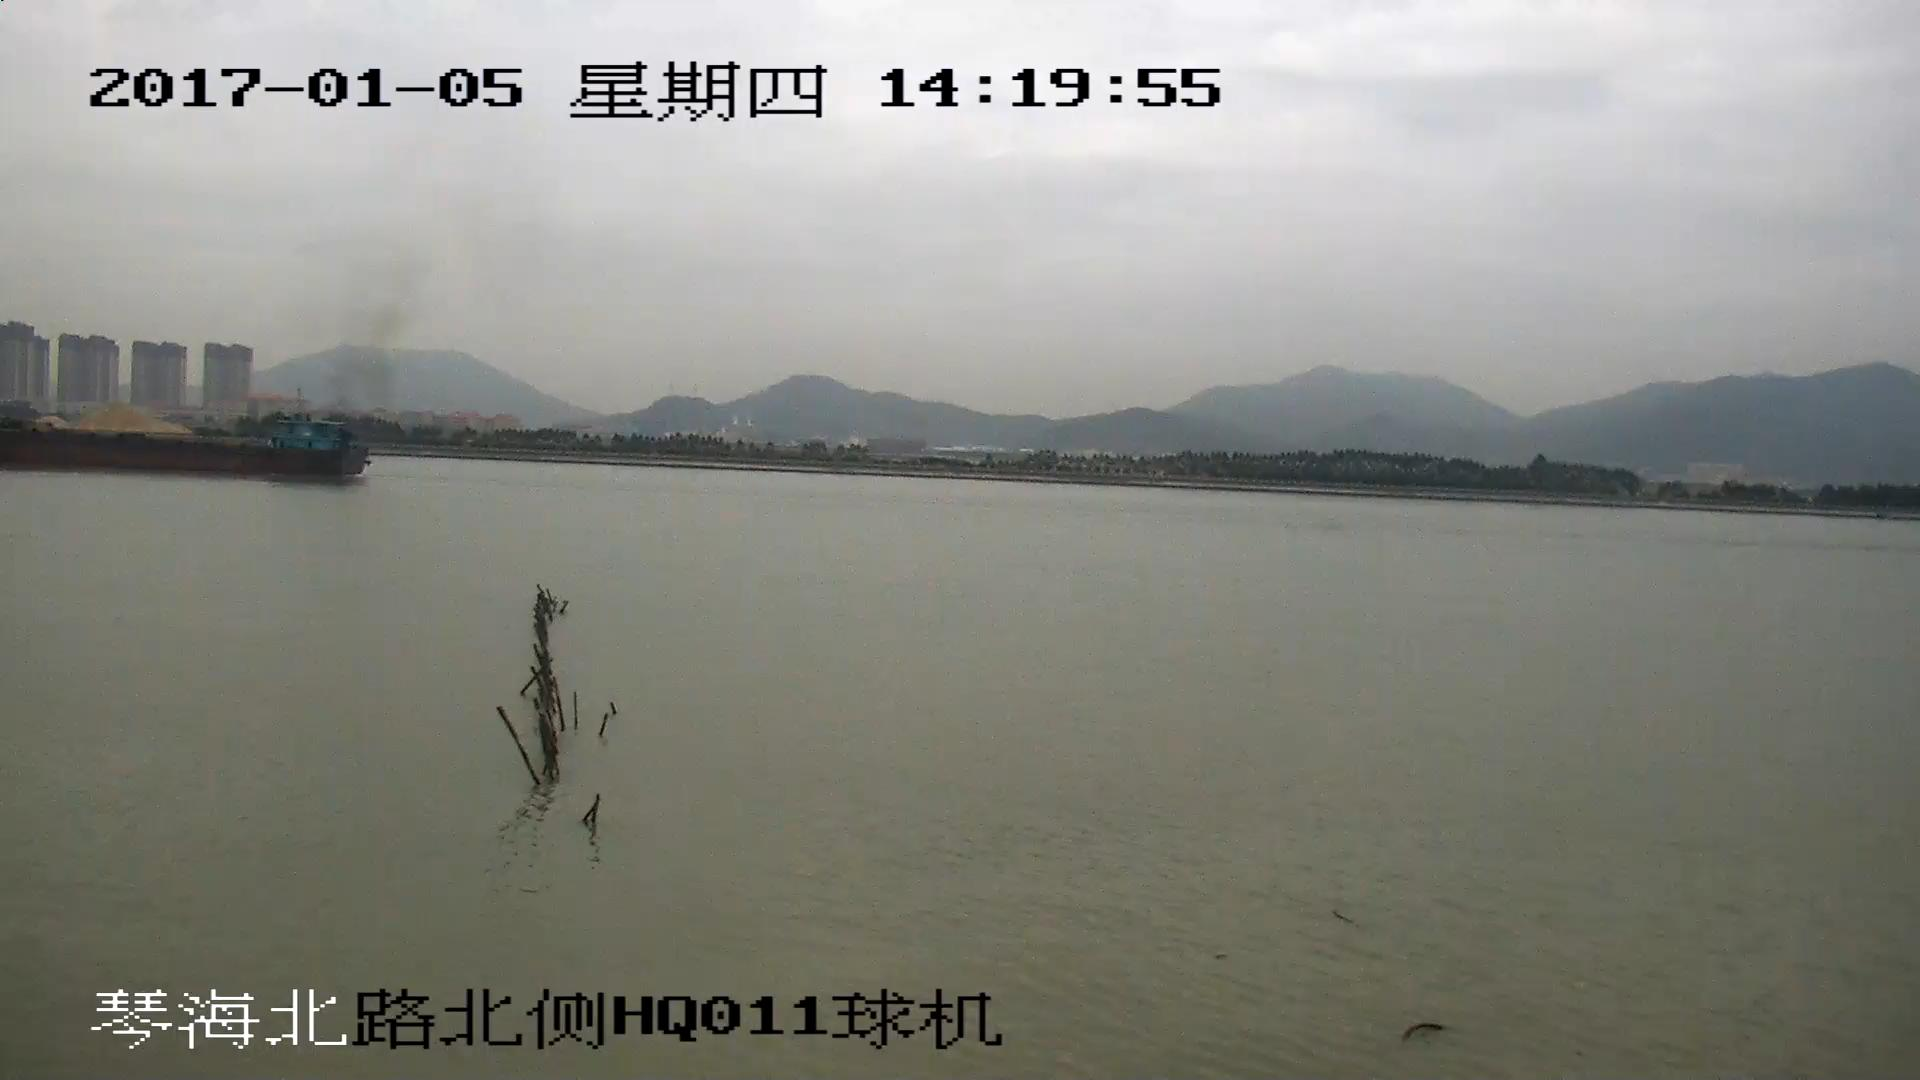bulk cargo carrier: (1, 413, 375, 477)
